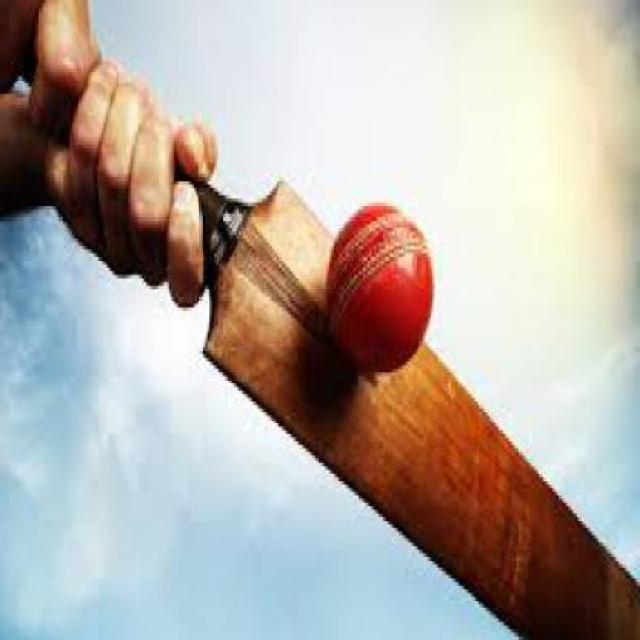ball: (312, 177, 452, 359)
